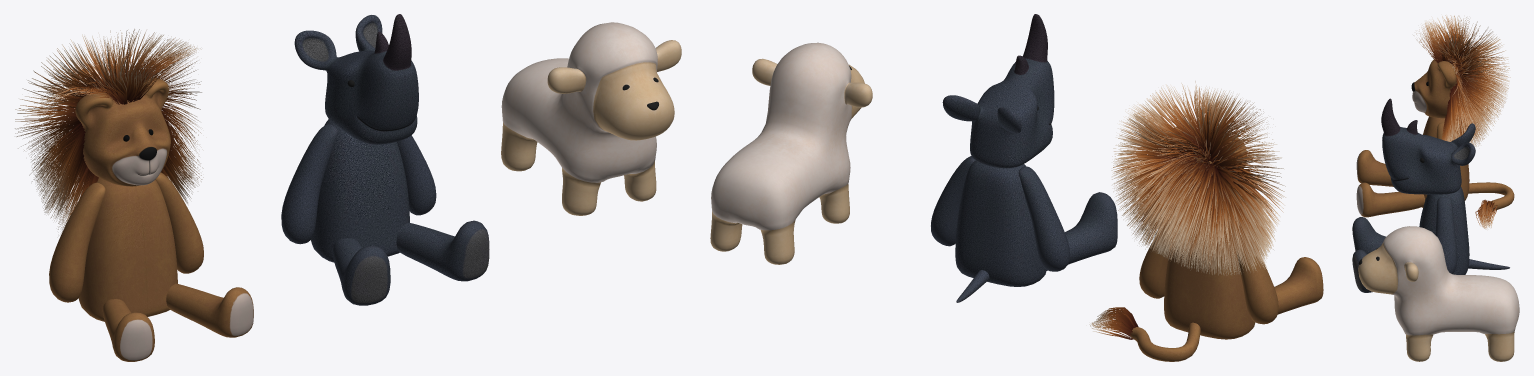
File: stuffed_toys_pack.glb
3 views of the same model, side by side, from view 1: azimuth 30°, elevation 25°; view 2: azimuth 150°, elevation 25°; view 3: azimuth 270°, elevation 25° (orthographic). The views are drawn at different scales.
Visible parts, largest first — view 1: Cube.010, Plane.1960, Cube.001, Cube.002, Cube.006, Cube, Cube.008, Cube.003, Cube.004, Cube.007; view 2: Plane.1960, Cube.010, Cube.001, Cube.006, Cube.002, Cube.007, Cube.003, Cube.008, Cube.004, Cube.005, Plane.001; view 3: Cube.010, Plane.1960, Cube.001, Cube.004, Cube, Cube.006, Cube.007, Cube.008, Cube.005, Cube.002, Plane.001, Cube.009.
Boxes of the visible parts, left/top/right/bottom form: Cube.010: left=501, top=22, right=681, bottom=215; Plane.1960: left=15, top=29, right=203, bottom=232; Cube.001: left=294, top=14, right=418, bottom=144; Cube.002: left=78, top=178, right=177, bottom=321; Cube.006: left=311, top=119, right=409, bottom=262; Cube: left=75, top=78, right=170, bottom=186; Cube.008: left=332, top=220, right=489, bottom=305; Cube.003: left=49, top=172, right=203, bottom=302; Cube.004: left=102, top=283, right=253, bottom=361; Cube.007: left=281, top=124, right=436, bottom=244; Plane.1960: left=1111, top=81, right=1285, bottom=275; Cube.010: left=710, top=42, right=872, bottom=264; Cube.001: left=942, top=14, right=1054, bottom=168; Cube.006: left=955, top=160, right=1046, bottom=286; Cube.002: left=1164, top=240, right=1255, bottom=339; Cube.007: left=931, top=156, right=1069, bottom=271; Cube.003: left=1139, top=239, right=1278, bottom=324; Cube.008: left=1046, top=192, right=1117, bottom=270; Cube.004: left=1274, top=257, right=1323, bottom=314; Cube.005: left=1130, top=322, right=1200, bottom=361; Plane.001: left=1089, top=307, right=1138, bottom=339; Cube.010: left=1358, top=226, right=1519, bottom=361; Plane.1960: left=1413, top=15, right=1510, bottom=146; Cube.001: left=1381, top=98, right=1475, bottom=194; Cube.004: left=1356, top=150, right=1424, bottom=217; Cube: left=1411, top=60, right=1461, bottom=118; Cube.006: left=1419, top=186, right=1469, bottom=274; Cube.007: left=1435, top=197, right=1457, bottom=273; Cube.008: left=1352, top=217, right=1385, bottom=292; Cube.005: left=1468, top=182, right=1514, bottom=210; Cube.002: left=1421, top=116, right=1469, bottom=207; Plane.001: left=1475, top=199, right=1497, bottom=229; Cube.009: left=1468, top=259, right=1509, bottom=269.
Size of the model in its own units: 4.02 by 1.64 by 1.4.
Materials: 4 (4 with a texture image).
